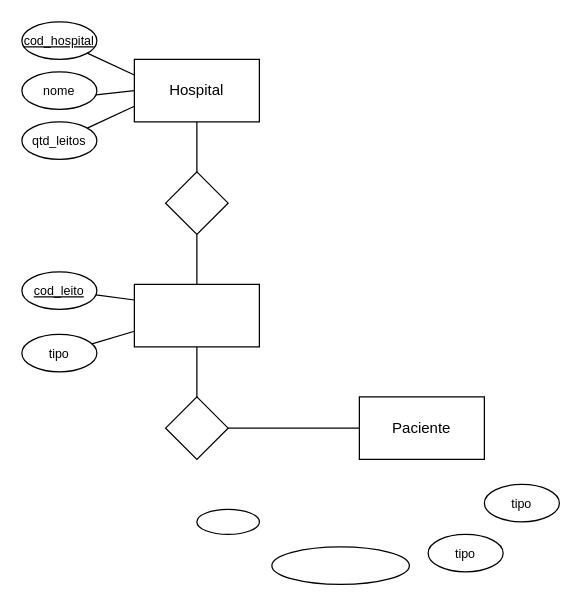
The diagram is 581 pixels wide and 606 high, and some of its shapes have lost their labels. Each missing label, with the box of its shape:
CPF: (196, 508, 259, 534)
Leito: (133, 283, 259, 347)
numero_cartao_sus: (271, 546, 409, 584)
ocupa: (164, 396, 228, 459)
Possui: (164, 171, 228, 234)
